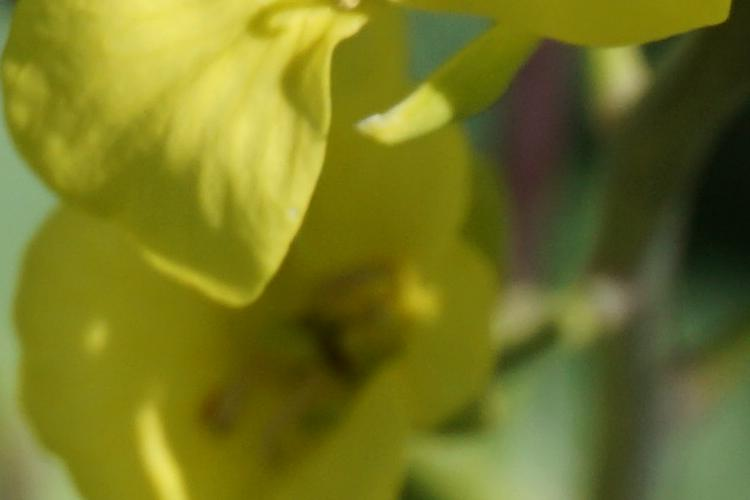yellow: (3, 2, 729, 301)
